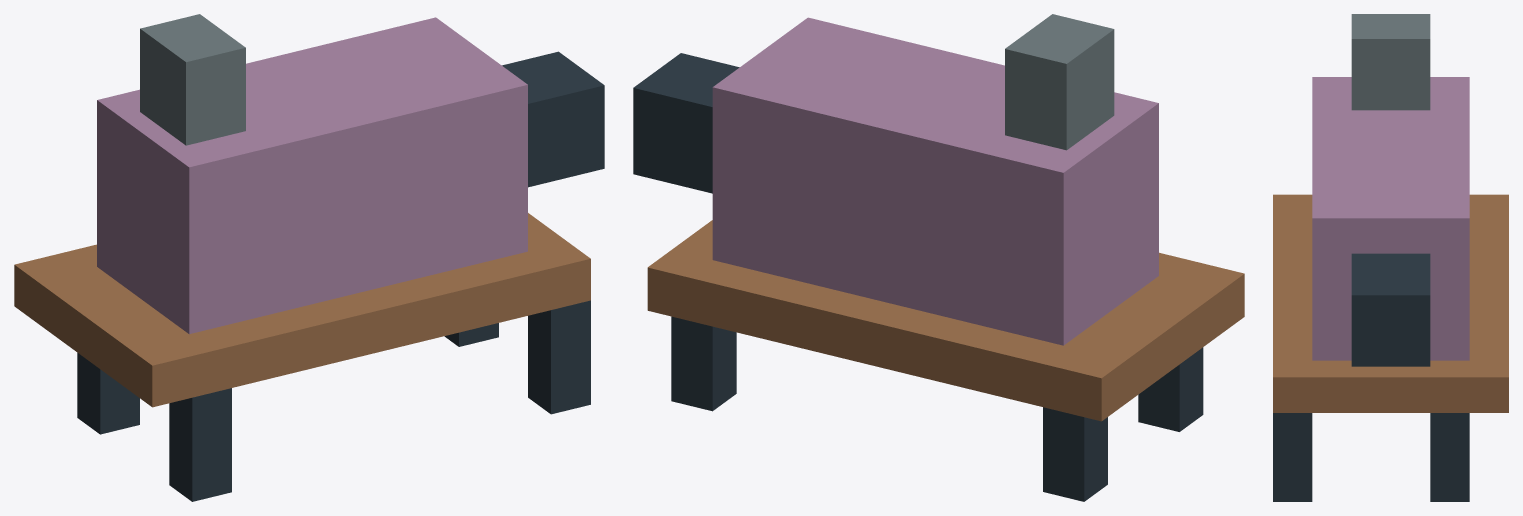
File: events-06.glb
3 views of the same model, side by side, from view 1: azimuth 30°, elevation 25°; view 2: azimuth 150°, elevation 25°; view 3: azimuth 270°, elevation 25° (orthographic). The views are drawn at different scales.
Visible parts, largest first — view 1: Confetti cannon; view 2: Confetti cannon; view 3: Confetti cannon.
Part boxes in pixels (x1,y1,x2,y2): Confetti cannon: (14,14,604,501); Confetti cannon: (633,14,1244,501); Confetti cannon: (1273,14,1508,501).
Size of the model in its own units: 2 by 1.52 by 0.96.
